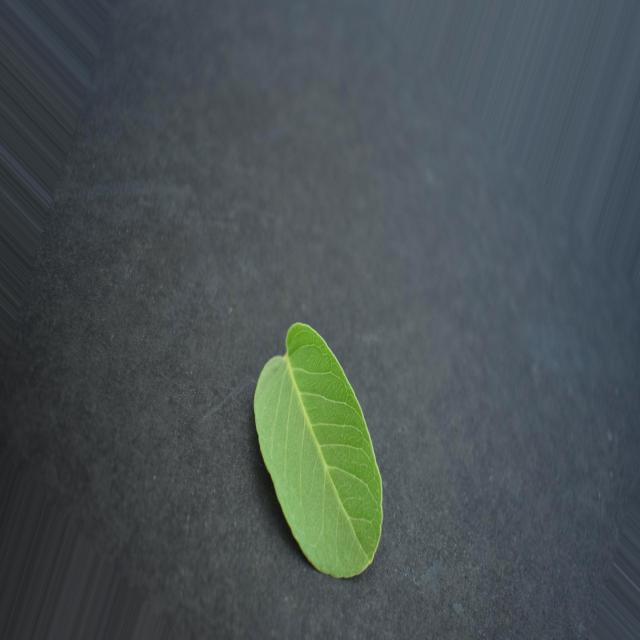Healthy: (254, 322, 382, 578)
